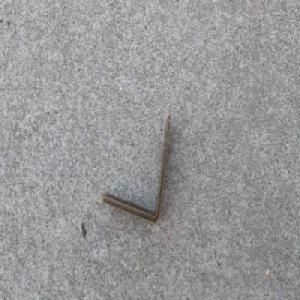MetalPart: (101, 113, 173, 224)
